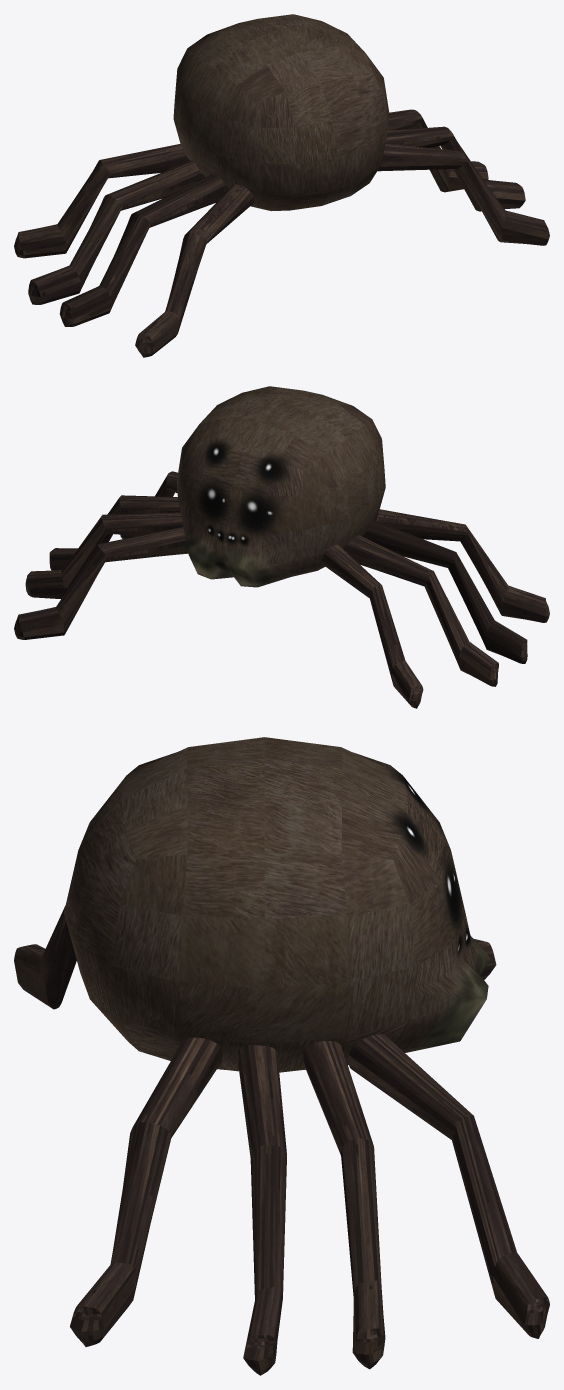
Rendered from spider2.fbx.
3 renders of one model, top to bottom at view 1: azimuth 30°, elevation 25°; view 2: azimuth 150°, elevation 25°; view 3: azimuth 270°, elevation 25°, orthographic. The views are drawn at different scales.
Visible parts, largest first — view 1: Body, Legs.002, Legs.003, Legs, Legs.001, Legs.007, Legs.004, Legs.005; view 2: Body, Legs.006, Legs.002, Legs.003, Legs.001, Legs, Legs.005, Legs.004, Legs.007; view 3: Body, Legs.006, Legs.007, Legs.004, Legs.005, Legs.001.
Part boxes in pixels (box(x1,y1,x2,y2)): Body: box(173, 14, 389, 211); Legs.002: box(59, 174, 228, 326); Legs.003: box(28, 160, 205, 304); Legs: box(14, 144, 190, 258); Legs.001: box(135, 184, 253, 357); Legs.007: box(377, 144, 549, 245); Legs.004: box(385, 126, 525, 211); Legs.005: box(388, 109, 488, 192); Body: box(176, 386, 385, 587); Legs.006: box(14, 527, 188, 639); Legs.002: box(362, 520, 527, 663); Legs.003: box(343, 535, 498, 686); Legs.001: box(376, 509, 549, 622); Legs: box(321, 544, 423, 708); Legs.005: box(25, 512, 182, 598); Legs.004: box(49, 495, 180, 570); Legs.007: box(120, 471, 177, 538); Body: box(64, 737, 490, 1072); Legs.006: box(348, 1034, 549, 1338); Legs.007: box(70, 1037, 222, 1346); Legs.004: box(238, 1045, 286, 1375); Legs.005: box(303, 1041, 385, 1369); Legs.001: box(14, 905, 76, 1009).
Bounding box in the file's own units: 594 × 279 × 328.
